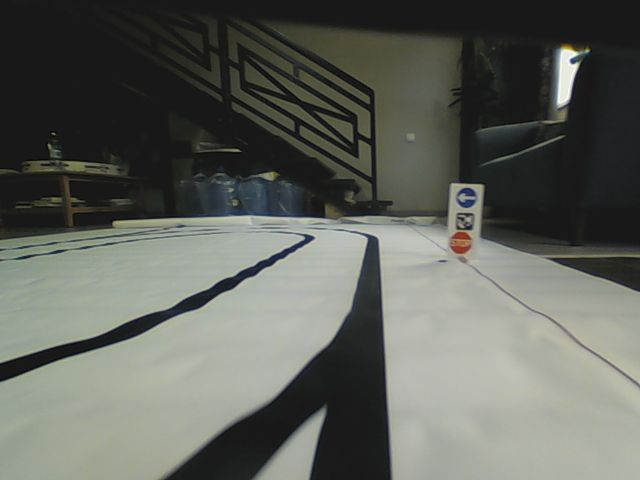Stop: (448, 230, 475, 253)
